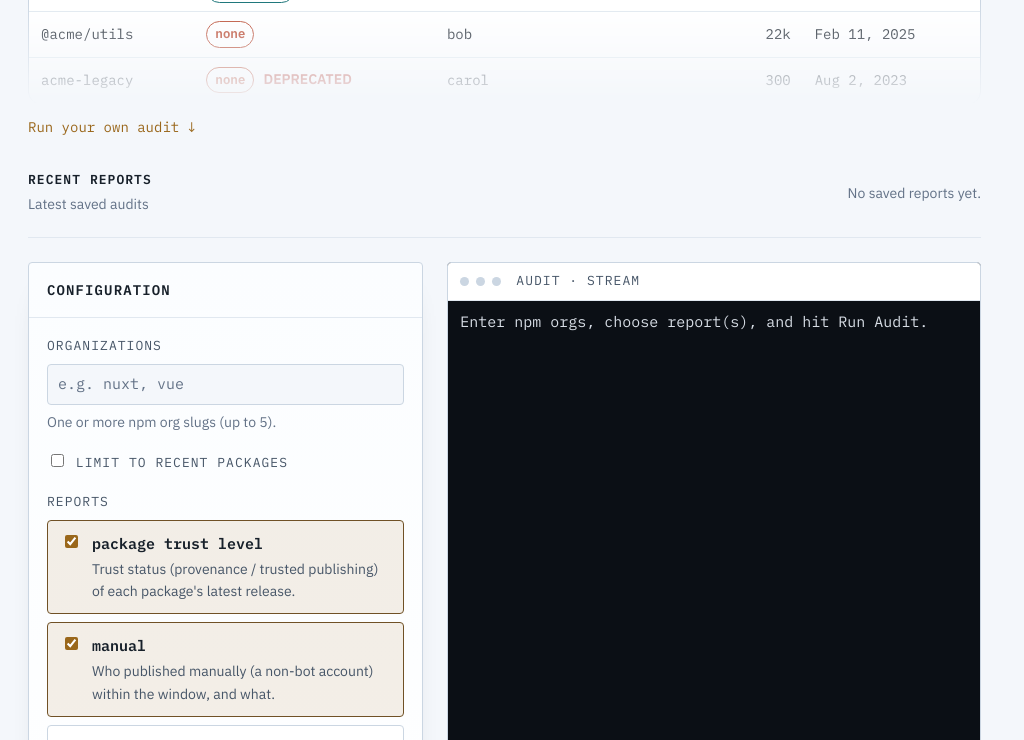
Test: App › validates that at least one report is selected
The image size is (1024, 740).
(page scrolled)
Type "netlify" into the field with placeholder "e.g. nuxt, vue". click: [226, 384]
box: [56,371,395,398]
Then press Enter
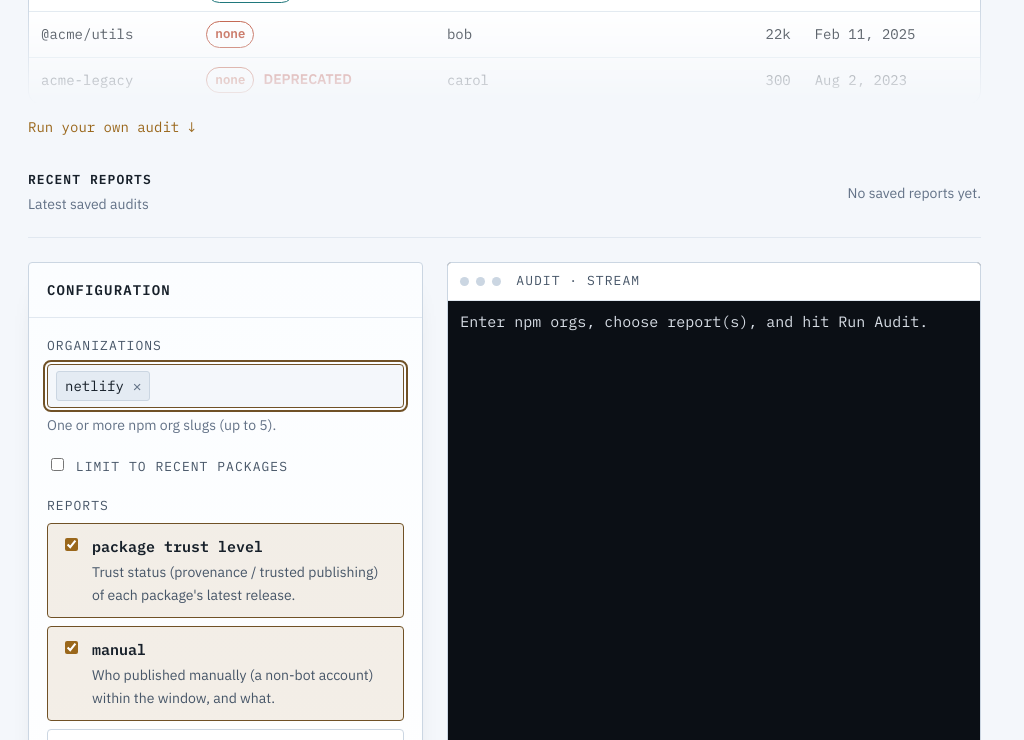
Click the 2nd checkbox. click: [72, 545]
box: [65,538,78,551]
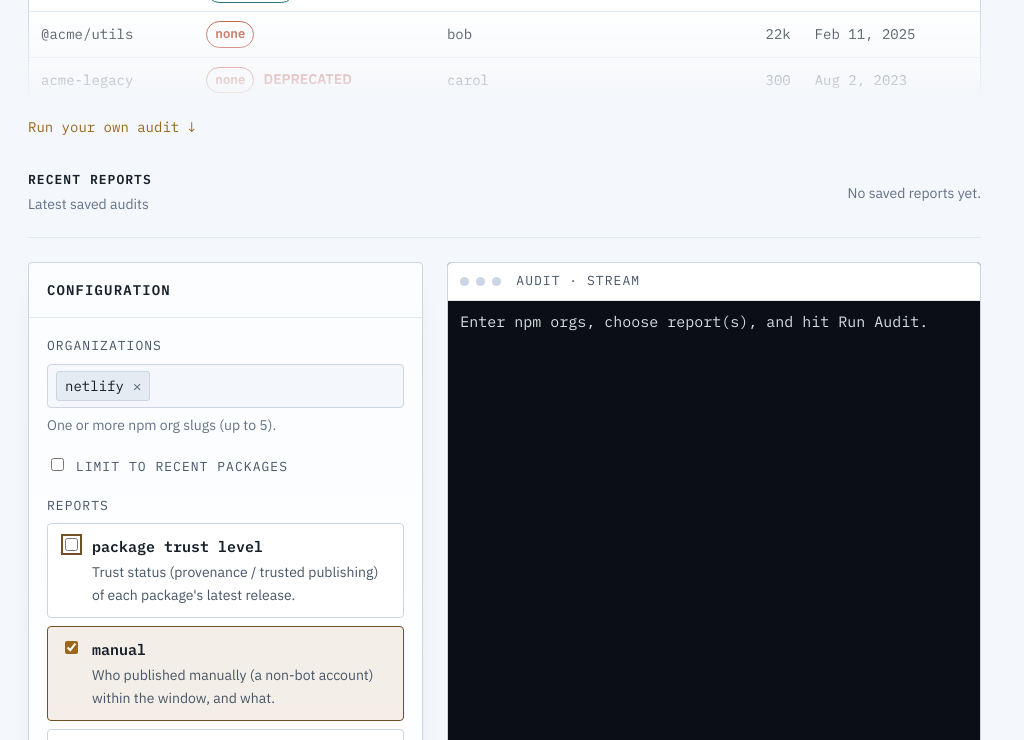
Click the 3rd checkbox. click: [72, 648]
box: [65,641,78,654]
(page scrolled)
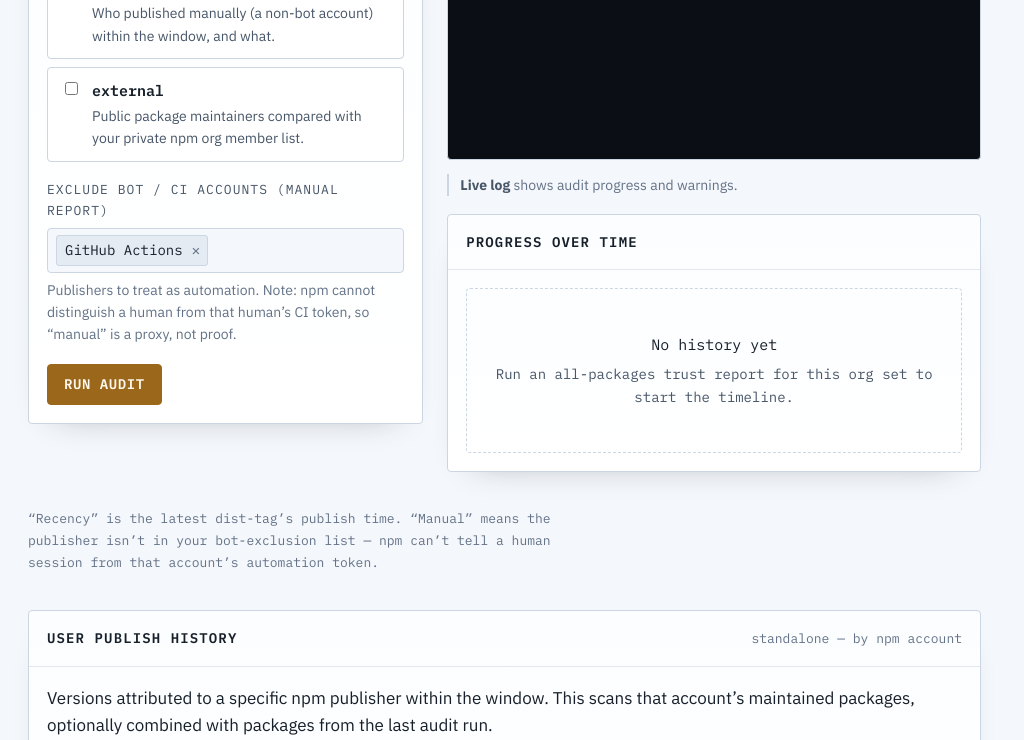
Click the button "Run audit". click: [104, 385]
box: [47,364,162,405]
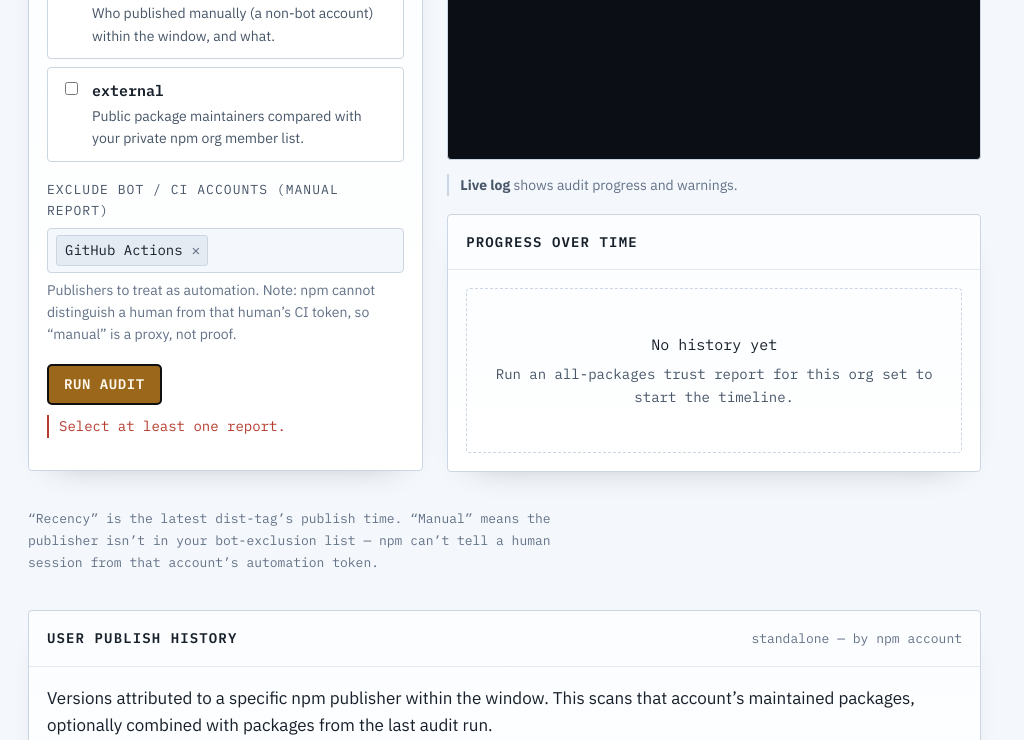
Result: the text "Select at least one report." is shown at [47,415,404,438]
